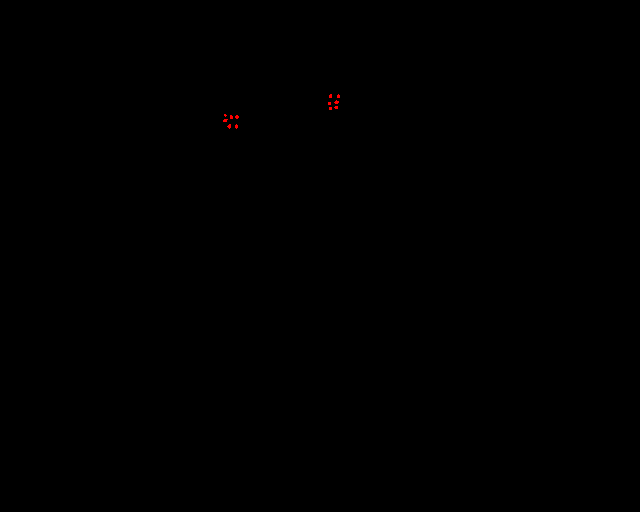Target: (334, 100, 339, 104), (227, 124, 231, 129), (235, 115, 239, 119), (223, 119, 228, 122), (235, 124, 238, 129), (329, 94, 332, 98), (337, 94, 340, 98), (334, 106, 338, 109), (230, 115, 233, 119), (328, 102, 331, 105), (329, 107, 332, 110), (224, 114, 227, 117)
